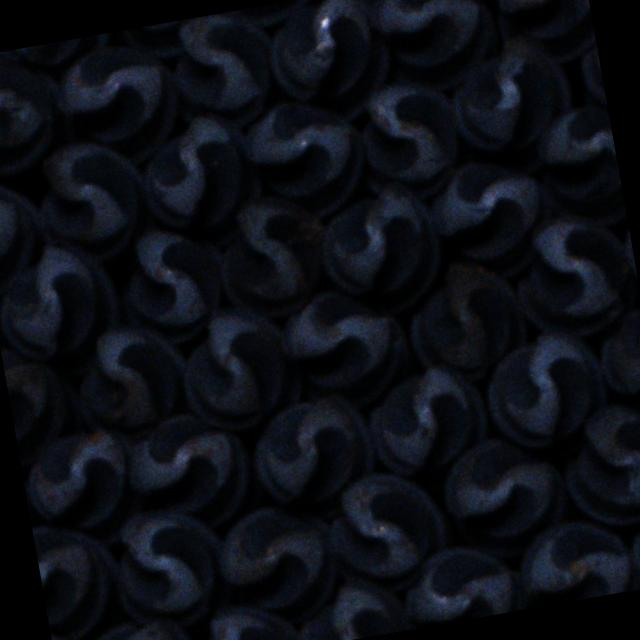tool_b: (443, 25, 582, 185), (312, 174, 448, 325), (131, 108, 268, 255), (0, 230, 127, 388), (275, 278, 418, 418), (245, 384, 383, 528), (50, 34, 188, 176), (172, 297, 308, 437), (118, 404, 256, 541), (505, 206, 640, 346), (423, 150, 561, 286), (235, 90, 372, 226), (436, 430, 574, 564), (208, 498, 346, 632), (318, 466, 456, 600), (399, 254, 534, 388), (207, 186, 334, 328), (478, 323, 612, 457), (260, 0, 398, 129), (25, 133, 154, 269), (358, 355, 494, 482), (106, 499, 233, 633), (20, 423, 144, 556), (346, 70, 466, 204), (110, 216, 230, 349), (162, 6, 278, 139), (70, 318, 194, 442), (367, 0, 506, 100), (509, 506, 640, 609), (528, 101, 628, 233), (549, 397, 640, 533), (394, 535, 524, 630), (32, 517, 127, 640), (0, 40, 82, 180), (0, 335, 88, 462), (285, 567, 413, 640), (487, 0, 598, 70), (589, 305, 640, 433), (0, 166, 50, 295), (182, 594, 301, 640), (72, 610, 197, 640)
